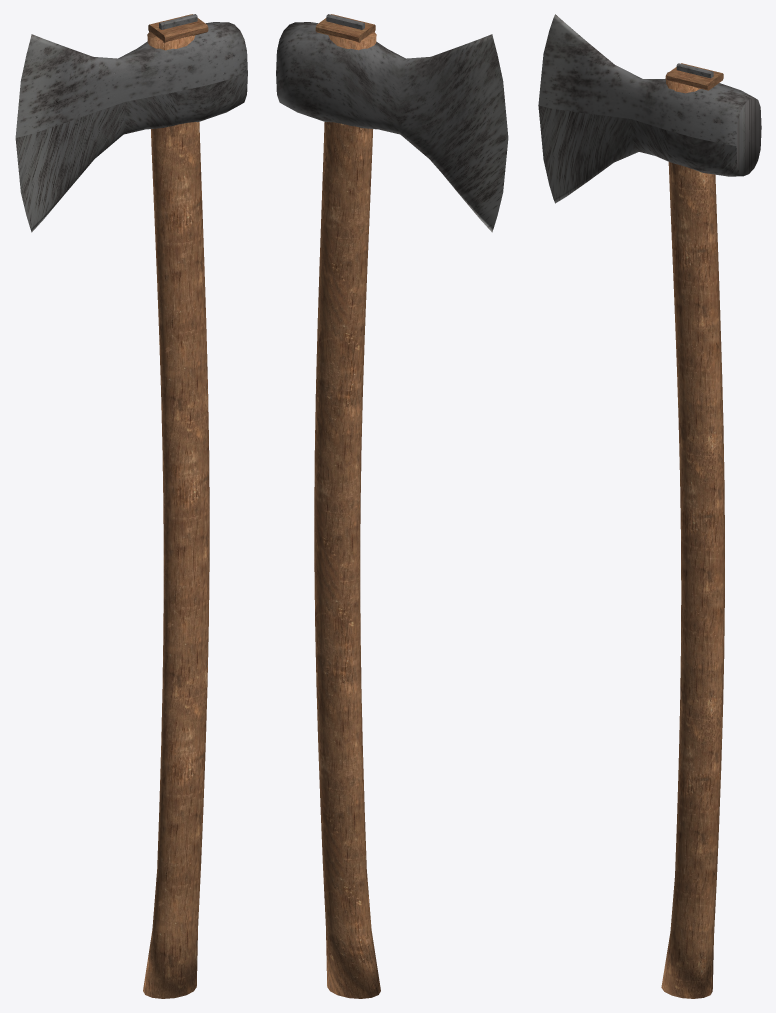
Rendered from b_tool_axe3.glb.
3 views of the same model, side by side, from view 1: azimuth 30°, elevation 25°; view 2: azimuth 150°, elevation 25°; view 3: azimuth 330°, elevation 25° (orthographic). The views are drawn at different scales.
Parts seen in each view (by area): view 1: b_tool_axe3; view 2: b_tool_axe3; view 3: b_tool_axe3.
Boxes of the visible parts, left/top/right/bottom form: b_tool_axe3: left=15, top=14, right=247, bottom=998; b_tool_axe3: left=276, top=14, right=508, bottom=998; b_tool_axe3: left=538, top=14, right=761, bottom=998.
Bounding box in the file's own units: 0.183 × 0.786 × 0.044.
Materials: 2 (2 with a texture image).
